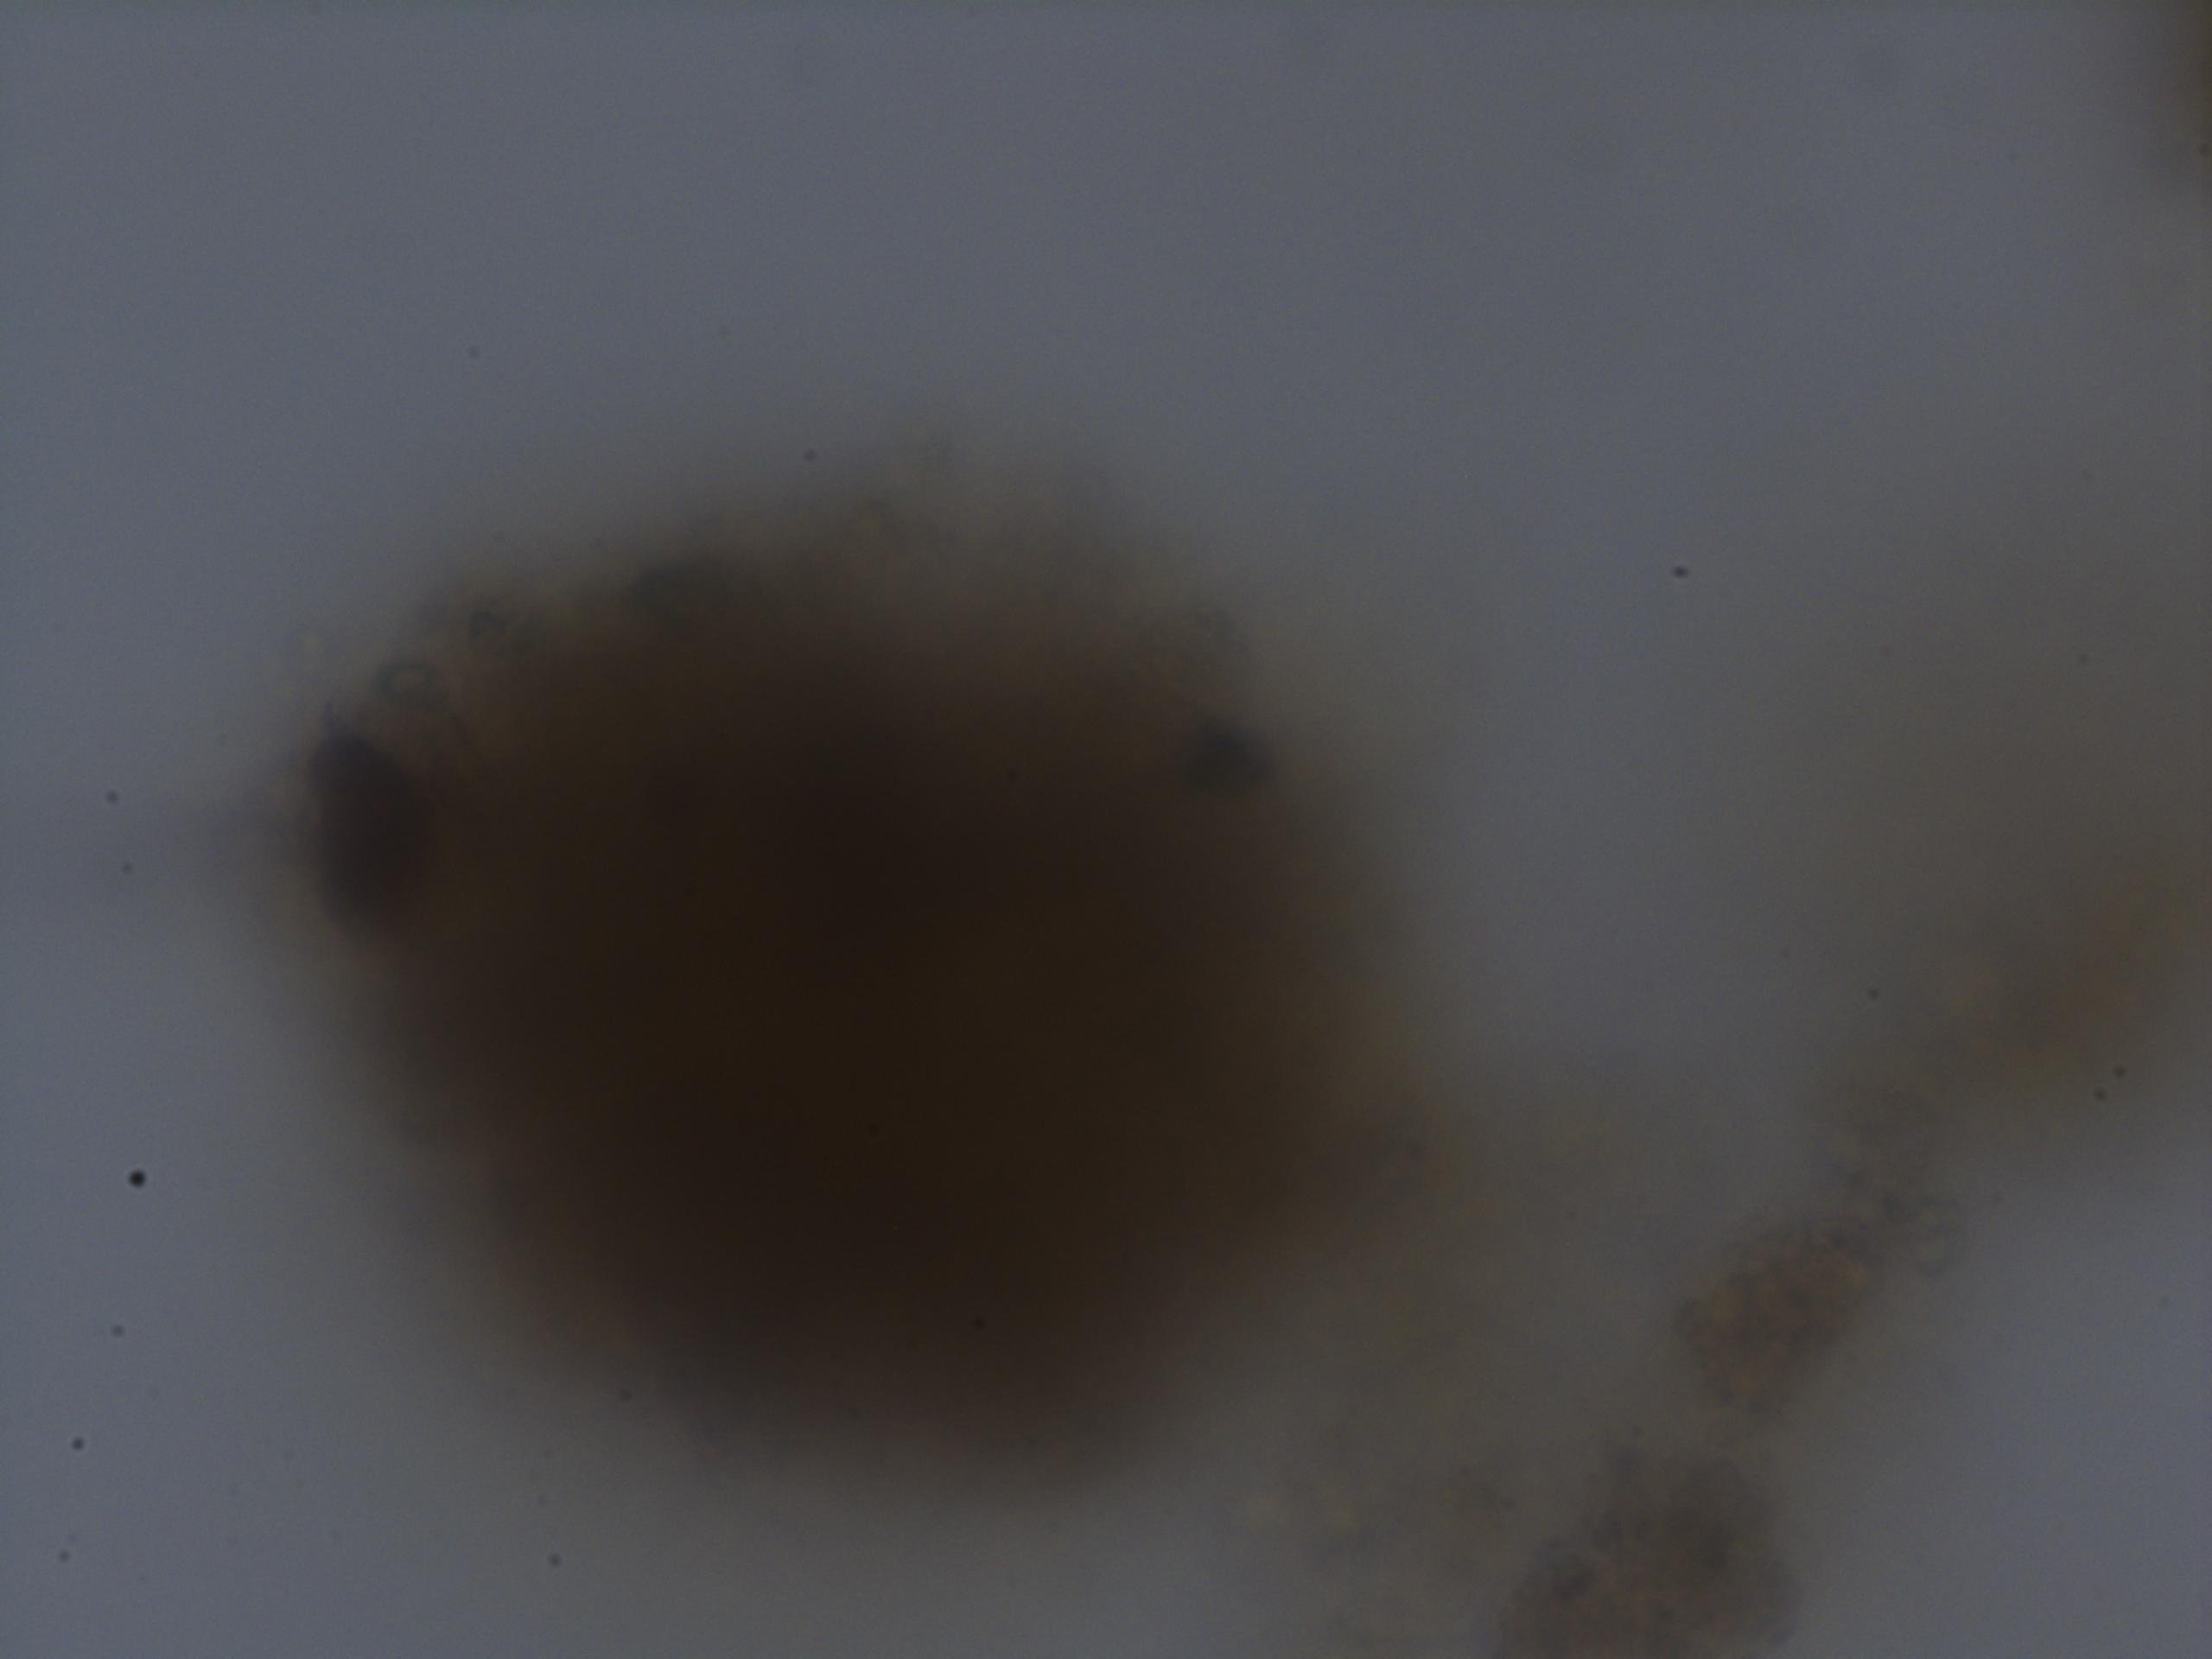spherical_floc: (277, 474, 1454, 1502)
